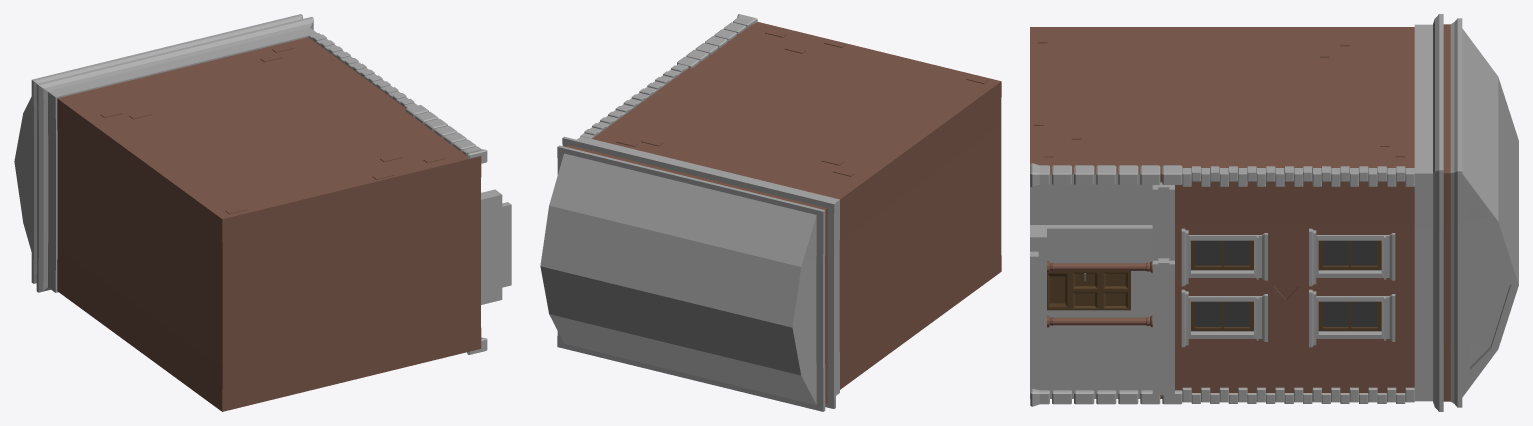
File: building7_left.glb
3 views of the same model, side by side, from view 1: azimuth 30°, elevation 25°; view 2: azimuth 150°, elevation 25°; view 3: azimuth 270°, elevation 25° (orthographic). The views are drawn at different scales.
Visible parts, largest first — view 1: Building3_Small; view 2: Building3_Small; view 3: Building3_Small.
Part boxes in pixels (x1,y1,x2,y2): Building3_Small: (14, 14, 511, 411); Building3_Small: (540, 14, 1001, 411); Building3_Small: (1030, 14, 1518, 411).
Bounding box in the file's own units: 9 × 6 × 11.
